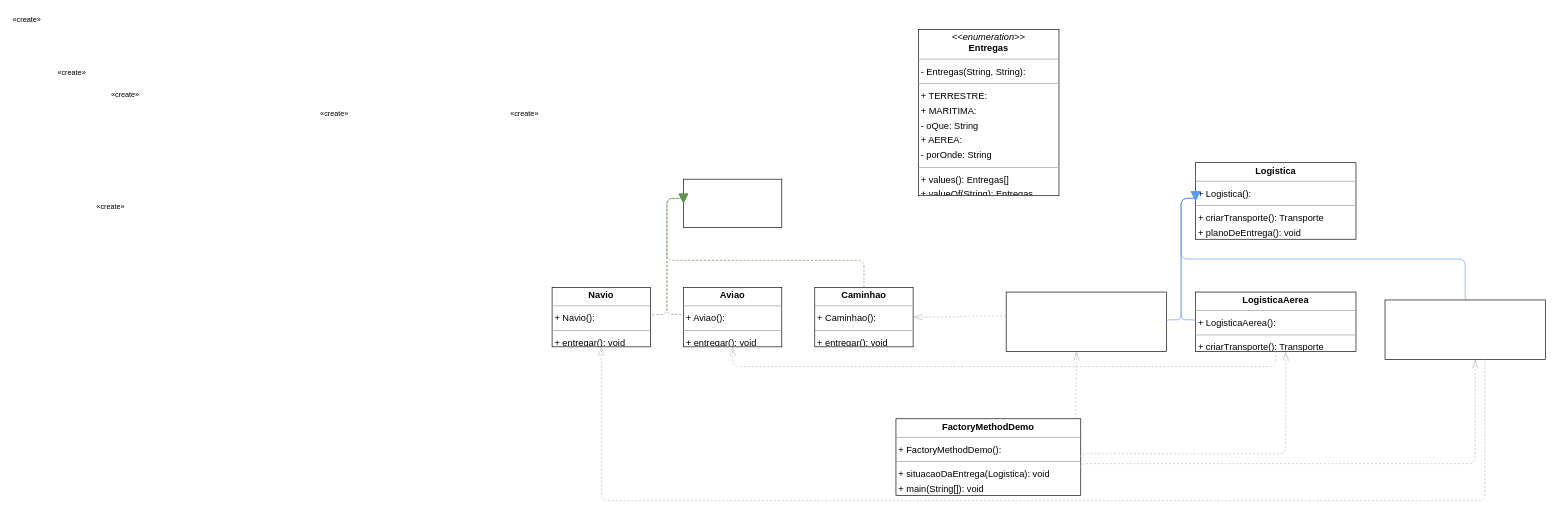
Image size: 1557x521. Some labels were removed from this diagram. Here are the shapes that lost their labels. From the top down, the centre of each, then its label:
the point at 732,203: <<interface>> Transporte + entregar(): void
the point at 1086,321: LogisticaTerrestre + LogisticaTerrestre(): + criarTransporte(): Transporte
the point at 1464,329: LogisticaMaritima + LogisticaMaritima(): + criarTransporte(): Transporte
